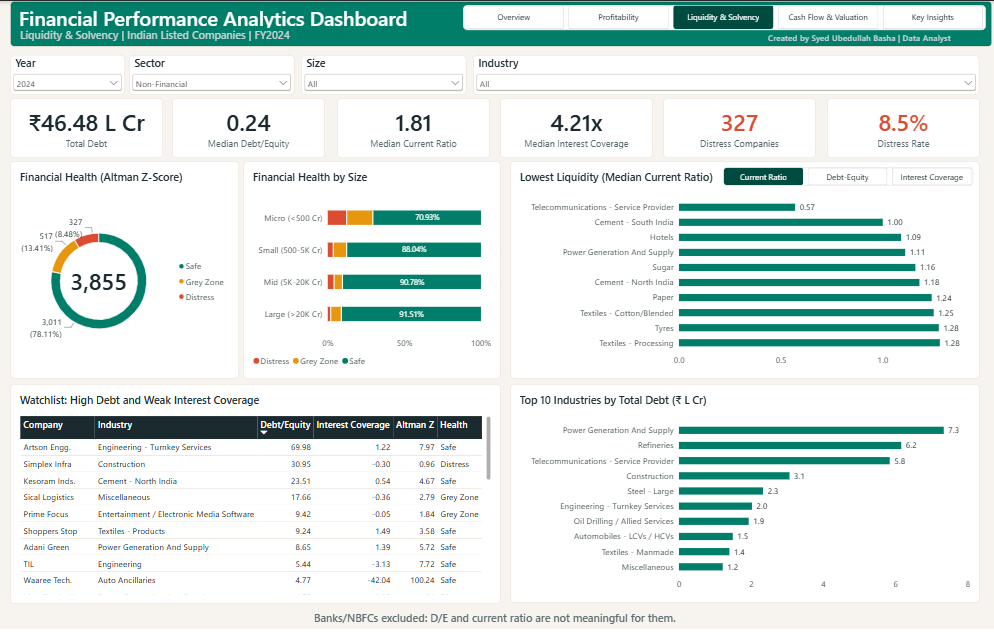

Layout of this report page (visuals, bound fields, positions):
{"tool":"powerbi","page":{"name":"Liquidity & Solvency","canvas":[1750,1100],"ordinal":2},"visuals":[{"type":"slicer","fields":{"Values":["dim_company.Sector Type"]},"box":[233.9,93.7,289.2,70],"z":0},{"type":"slicer","title":"Year","fields":{"Values":["dim_year.fiscal_year"]},"box":[25.8,93.7,200.8,70],"z":1000},{"type":"shape","box":[26.2,0,1714.6,80.3],"z":2000},{"type":"textbox","title":"Financial Performance Analytics Dashboard","box":[42.6,6.9,707,40],"z":3000},{"type":"slicer","title":"Year","fields":{"Values":["dim_company.size_bucket"]},"box":[535,93.7,289.2,70],"z":4000},{"type":"slicer","title":"Year","fields":{"Values":["dim_company.industry"]},"box":[834.5,93.9,884.2,70],"z":5000},{"type":"textbox","title":"Liquidity & Solvency | Indian Listed Companies | FY2024","box":[43.4,46.9,532,24],"z":6000},{"type":"card","fields":{"Values":["_Measures.Debt (L Cr)"]},"box":[25.8,169.5,267.1,105],"z":7000},{"type":"card","fields":{"Values":["_Measures.Median Debt to Equity"]},"box":[309.5,169.5,267.1,105],"z":8000},{"type":"card","fields":{"Values":["_Measures.Median Current Ratio"]},"box":[596.8,169.5,267.1,105],"z":9000},{"type":"card","fields":{"Values":["_Measures.Median Interest Coverage"]},"box":[882.4,169.5,267.1,105],"z":10000},{"type":"card","fields":{"Values":["_Measures.Distress Companies"]},"box":[1166.1,169.5,267.1,105],"z":11000},{"type":"card","fields":{"Values":["_Measures.Distress %"]},"box":[1452,169.5,267.1,105],"z":12000},{"type":"textbox","title":"Banks/NBFCs excluded: D/E and current ratio are not meaningful for them.","box":[25.8,1064.7,1692.9,29.5],"z":15000},{"type":"donutChart","title":"Financial Health (Altman Z-Score)","fields":{"Category":["fact_ratios.financial_health"],"Y":["_Measures.Health Companies"]},"box":[25.8,280,400,380],"z":16000},{"type":"hundredPercentStackedBarChart","title":"Financial Health by Size","fields":{"Category":["dim_company.size_bucket"],"Series":["fact_ratios.financial_health"],"Y":["_Measures.Health Companies"]},"box":[433,279.4,450.5,380.6],"z":17000},{"type":"clusteredBarChart","title":"Lowest Liquidity (Median Current Ratio)","fields":{"Category":["dim_company.industry"],"Y":["_Measures.Median Current Ratio (10+ Cos)"]},"box":[898.5,279.9,820.2,379.8],"z":20000},{"type":"bookmarkNavigator","box":[1271.1,289.8,436.5,33.2],"z":21000},{"type":"tableEx","title":"Watchlist: High Debt and Weak Interest Coverage","fields":{"Values":["dim_company.company_name","dim_company.industry","fact_balance_sheet.debt_to_equity_calc","fact_ratios.interest_coverage_ratio","fact_ratios.altman_z_score","fact_ratios.financial_health"]},"box":[25.4,669.5,857.4,383.7],"z":22000},{"type":"barChart","title":"Top 10 Industries by Total Debt (₹ L Cr)","fields":{"Category":["dim_company.industry"],"Y":["_Measures.Debt (L Cr)"]},"box":[898.5,669.5,820.2,381.7],"z":23000},{"type":"pageNavigator","box":[817.1,7,913.2,43.7],"z":24000},{"type":"textbox","title":"Created by Syed Ubedullah Basha | Data Analyst","box":[1350.3,53.4,350,24],"z":25000}]}

Visuals, with their boxes in screenshot pixels (x1, y1, x2, y2), scaled from the page's 1750x1100 canvas onto the 994x632 screenshot:
slicer - dim_company.Sector Type: Rect(133, 54, 297, 94)
"Year" slicer: Rect(15, 54, 129, 94)
shape: Rect(15, 0, 989, 46)
"Financial Performance Analytics Dashboard" textbox: Rect(24, 4, 426, 27)
"Year" slicer: Rect(304, 54, 468, 94)
"Year" slicer: Rect(474, 54, 976, 94)
"Liquidity & Solvency | Indian Listed Companies | FY2024" textbox: Rect(25, 27, 327, 41)
card - _Measures.Debt (L Cr): Rect(15, 97, 166, 158)
card - _Measures.Median Debt to Equity: Rect(176, 97, 328, 158)
card - _Measures.Median Current Ratio: Rect(339, 97, 491, 158)
card - _Measures.Median Interest Coverage: Rect(501, 97, 653, 158)
card - _Measures.Distress Companies: Rect(662, 97, 814, 158)
card - _Measures.Distress %: Rect(825, 97, 976, 158)
"Banks/NBFCs excluded: D/E and current ratio are not meaningful for them." textbox: Rect(15, 612, 976, 629)
"Financial Health (Altman Z-Score)" donutChart: Rect(15, 161, 242, 379)
"Financial Health by Size" hundredPercentStackedBarChart: Rect(246, 161, 502, 379)
"Lowest Liquidity (Median Current Ratio)" clusteredBarChart: Rect(510, 161, 976, 379)
bookmarkNavigator: Rect(722, 167, 970, 186)
"Watchlist: High Debt and Weak Interest Coverage" tableEx: Rect(14, 385, 501, 605)
"Top 10 Industries by Total Debt (₹ L Cr)" barChart: Rect(510, 385, 976, 604)
pageNavigator: Rect(464, 4, 983, 29)
"Created by Syed Ubedullah Basha | Data Analyst" textbox: Rect(767, 31, 966, 44)
